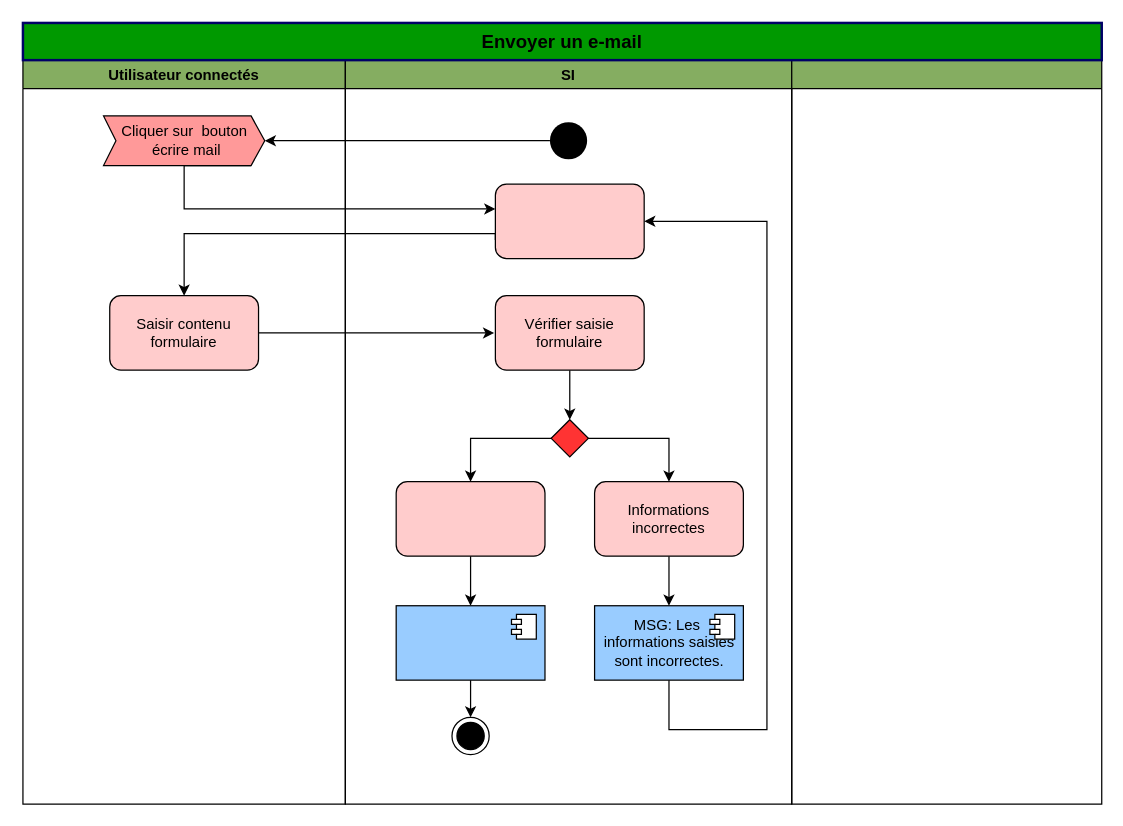
Image size: 1123x826. Some labels were removed from this diagram. Each missing label, with the centre of its shape:
"Afficher formulaire envoie" belongs at (x=569, y=221).
"BDD" belongs at (x=946, y=431).
"Informations correctes" belongs at (x=470, y=518).
"MSG: e-mail envoyé" belongs at (x=470, y=642).
